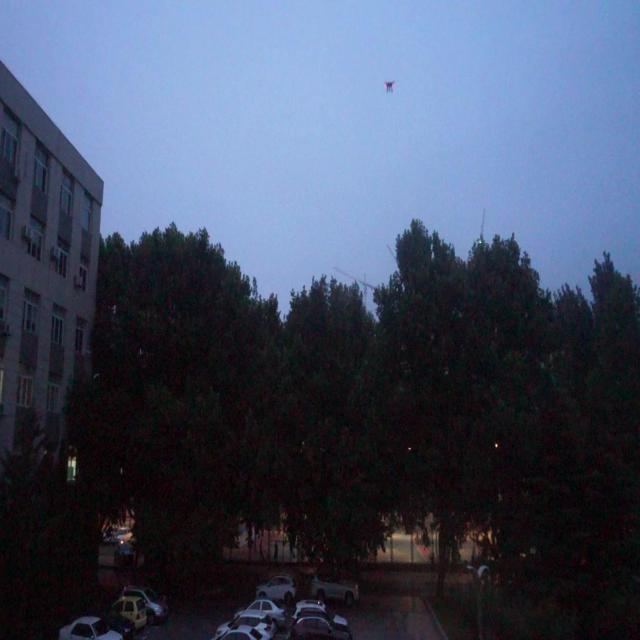drone: (381, 77, 398, 96)
